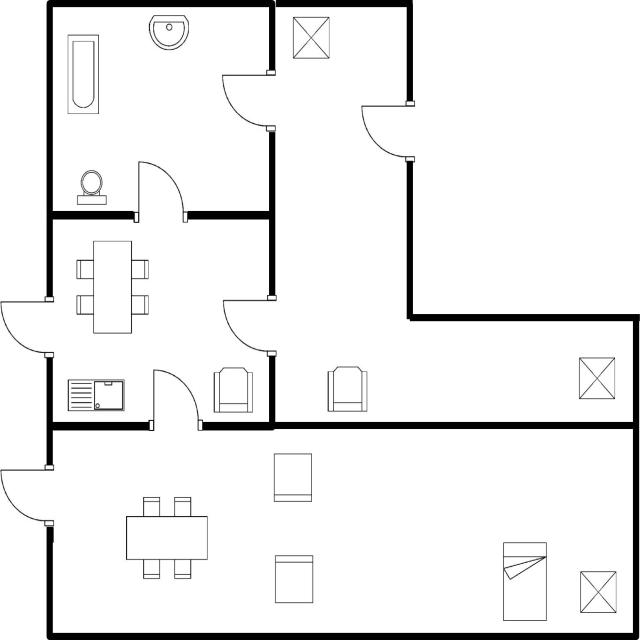armchair: (208, 363, 256, 416), (323, 362, 371, 414)
bed: (499, 538, 552, 624)
coffee_table: (574, 352, 620, 404), (290, 10, 334, 62), (576, 567, 620, 617)
dining_table: (69, 235, 154, 338), (122, 492, 212, 583)
large_sink: (73, 165, 109, 208)
sink: (63, 374, 127, 418)
small_sink: (146, 8, 193, 52)
small_sofa: (269, 551, 319, 608), (270, 448, 316, 508)
tub: (64, 30, 102, 120)
